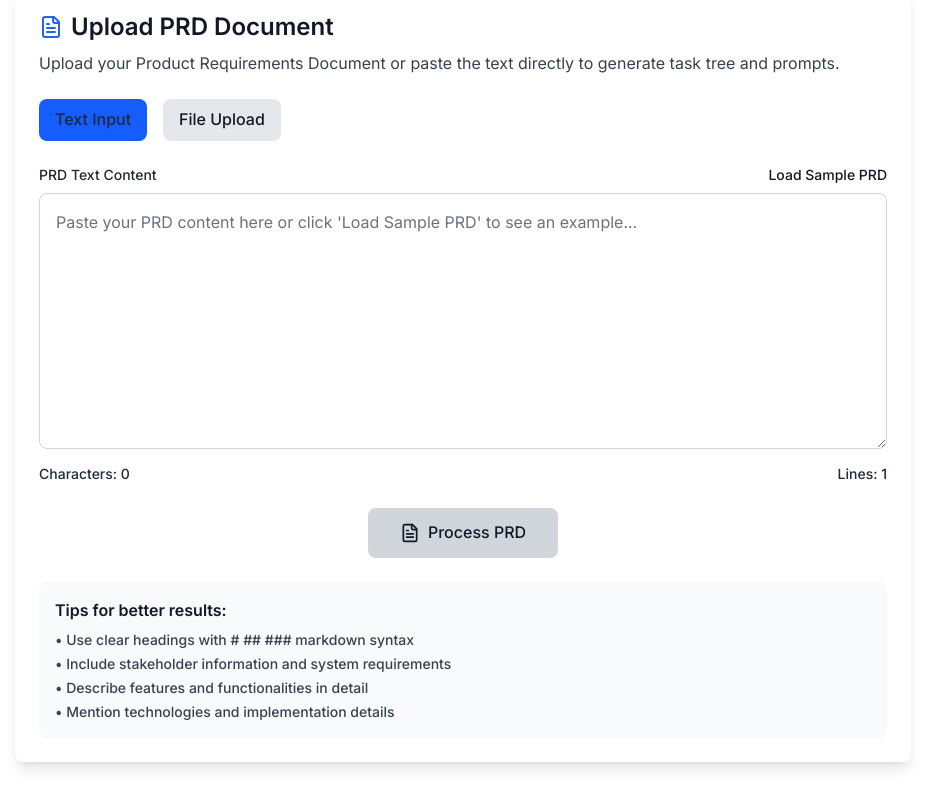
Test case: PrdUpload Component › Process Button Functionality › enables process button when text is provided
Type "Some content" into the text box with placeholder "Paste your PRD content here" at (463, 321), box x1=39 y1=193 x2=887 y2=449
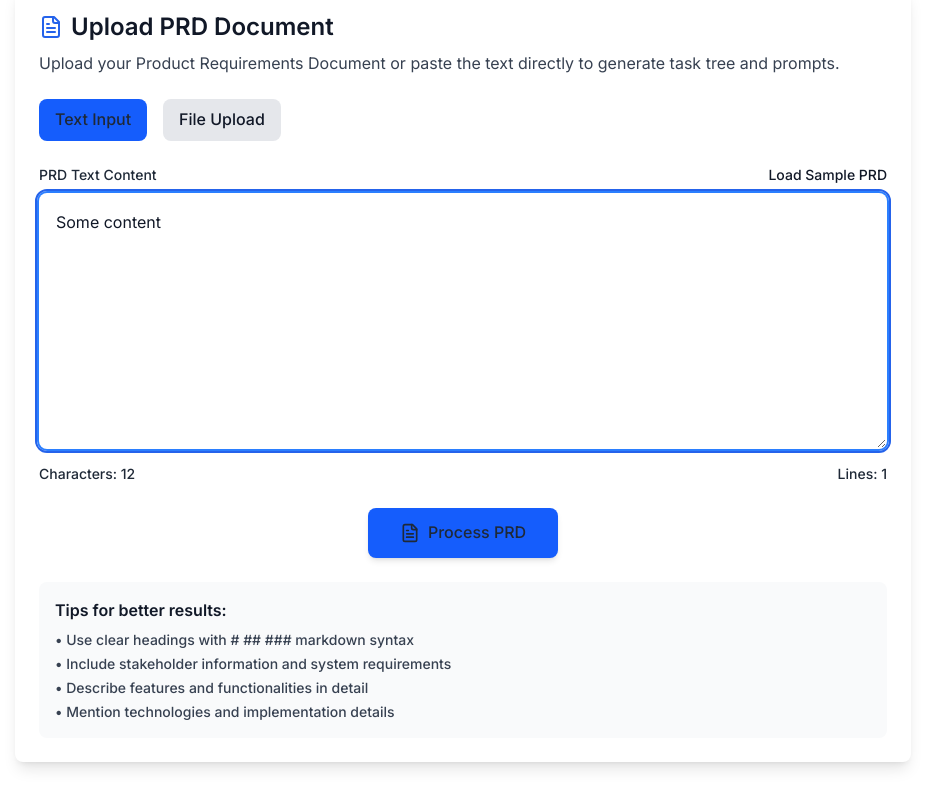
Now the button "Process PRD" is enabled, box x1=368 y1=508 x2=558 y2=558
